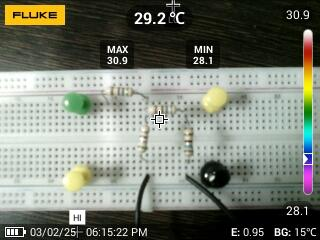resistor: (144, 102, 179, 117), (136, 123, 151, 157), (182, 126, 196, 162), (102, 84, 137, 98)
